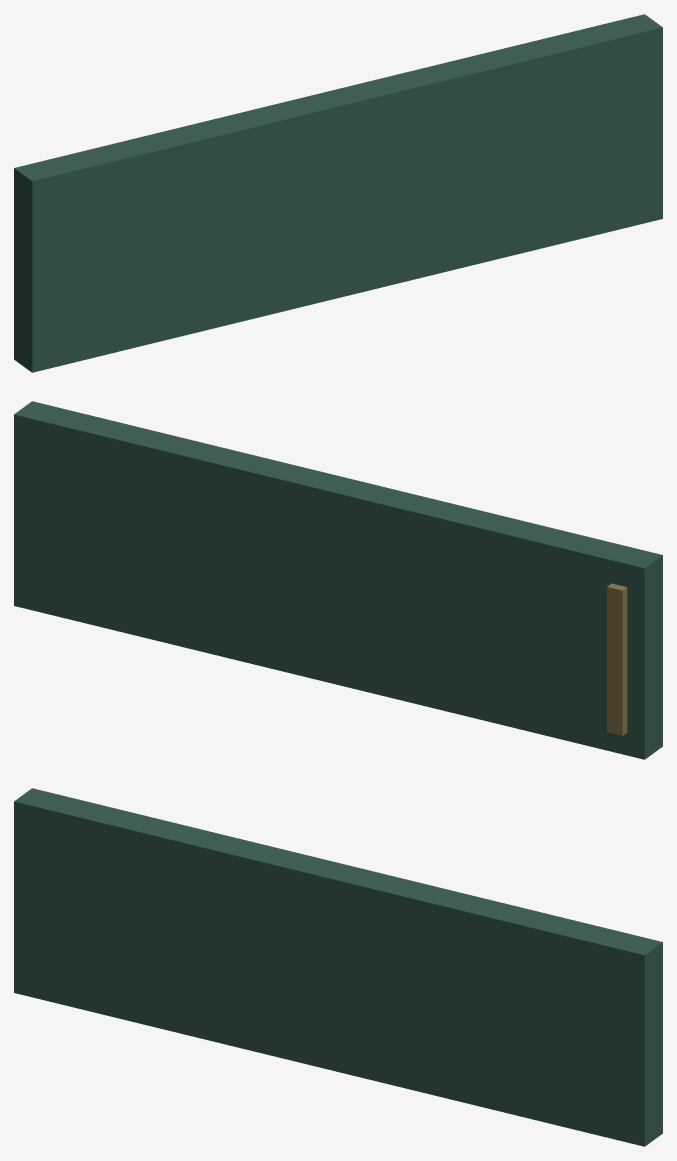
The model's file is school_sign.glb.
The picture shows the model from 3 angles, top to bottom: view 1: azimuth 30°, elevation 25°; view 2: azimuth 150°, elevation 25°; view 3: azimuth 330°, elevation 25°; orthographic projection.
Visible parts, largest first — view 1: school_sign; view 2: school_sign; view 3: school_sign.
Part boxes in pixels (x1=…): school_sign: x1=14, y1=14, x2=662, y2=372; school_sign: x1=14, y1=401, x2=662, y2=759; school_sign: x1=14, y1=788, x2=662, y2=1146.
Bounding box in the file's own units: 1 × 0.29 × 0.063.
